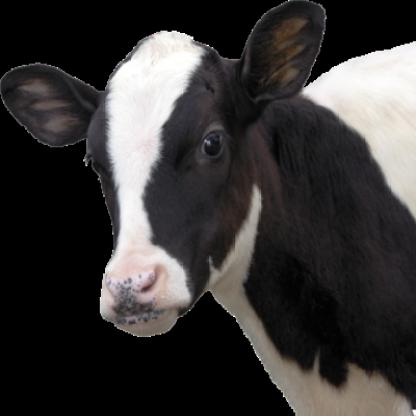lower: (113, 324, 178, 335)
mouth: (99, 252, 188, 341)
upper: (104, 268, 167, 308)
